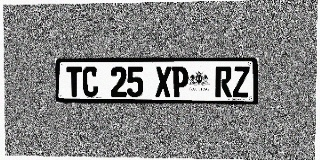2: (111, 66, 127, 97)
5: (127, 66, 143, 97)
C: (82, 67, 98, 97)
P: (172, 66, 188, 97)
R: (215, 66, 232, 97)
T: (66, 67, 82, 97)
X: (155, 66, 171, 97)
Z: (233, 66, 250, 98)
